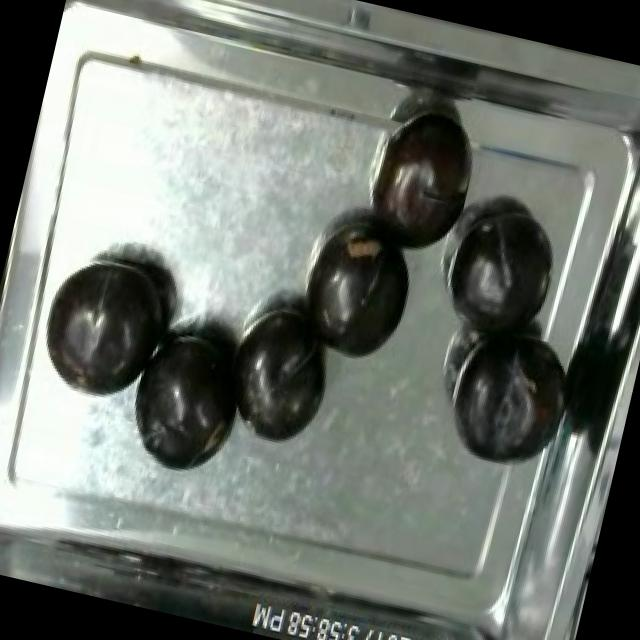Fruit: (32, 234, 190, 414), (115, 314, 256, 488), (210, 290, 346, 458), (357, 100, 485, 270), (436, 311, 564, 478), (289, 218, 426, 374), (436, 198, 570, 346)
